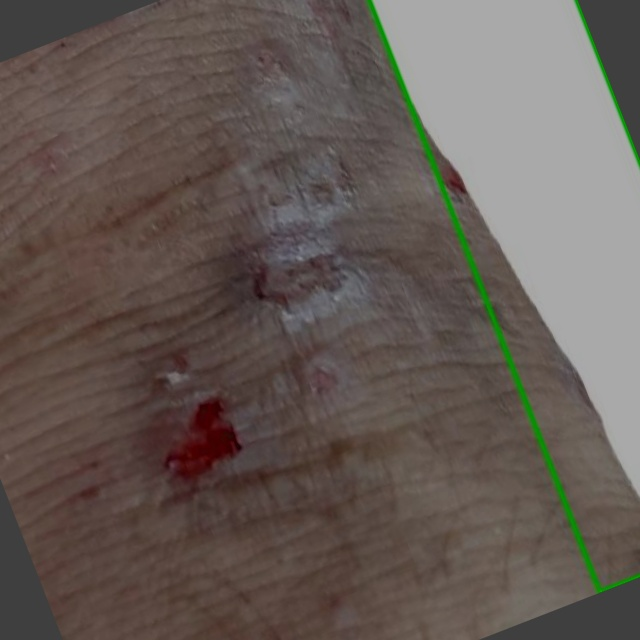Eczema: (369, 0, 639, 592)
